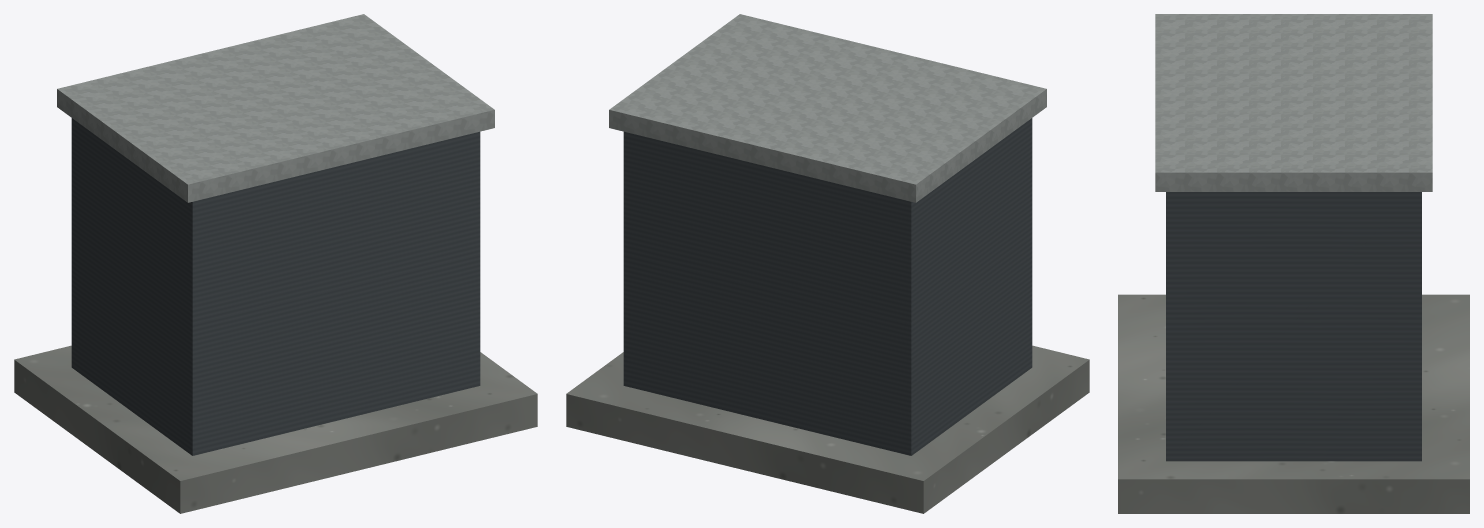
File: service-pad-transformer.lod2.gltf
The picture shows the model from 3 angles, left to right: view 1: azimuth 30°, elevation 25°; view 2: azimuth 150°, elevation 25°; view 3: azimuth 270°, elevation 25°; orthographic projection. The views are drawn at different scales.
Visible parts, largest first — view 1: service-pad-transformer; view 2: service-pad-transformer; view 3: service-pad-transformer.
Part boxes in pixels (x1,y1,x2,y2): service-pad-transformer: (14,14,537,513); service-pad-transformer: (566,14,1089,513); service-pad-transformer: (1118,14,1469,513).
Bounding box in the file's own units: 2.05 × 1.7 × 1.65.
Materials: 3 (3 with a texture image).
